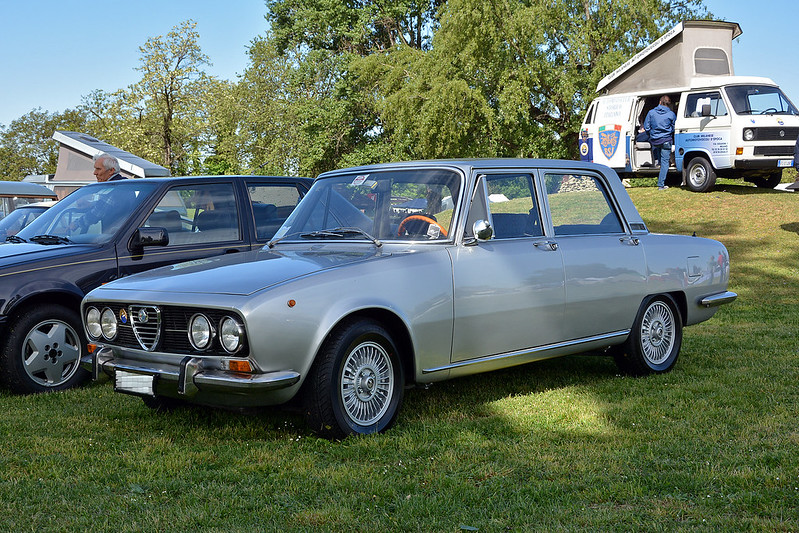car: (86, 153, 740, 439), (577, 82, 795, 184)
